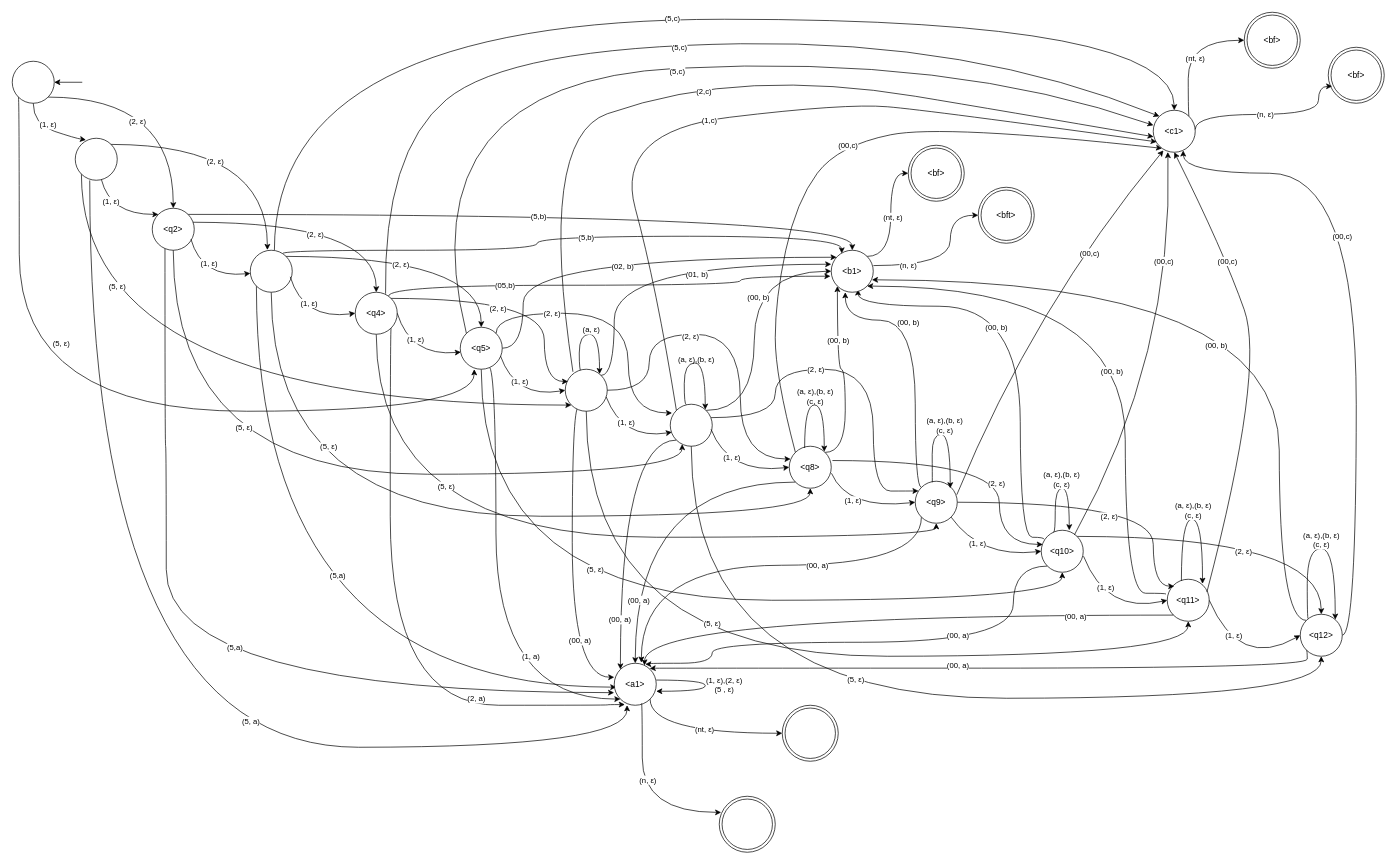
Image size: 1397x865. Some labels were removed from this diagram. Here are the shapes that lost their labels. From the top down, the centre of each, then its label:
At [33,82]: "<q0>".
At [96,159]: "<q1>".
At [271,271]: "<q3>".
At [586,390]: "<q6>".
At [691,425]: "<q7>".
At [810,733]: "<aft>".
At [747,824]: "<af>".
